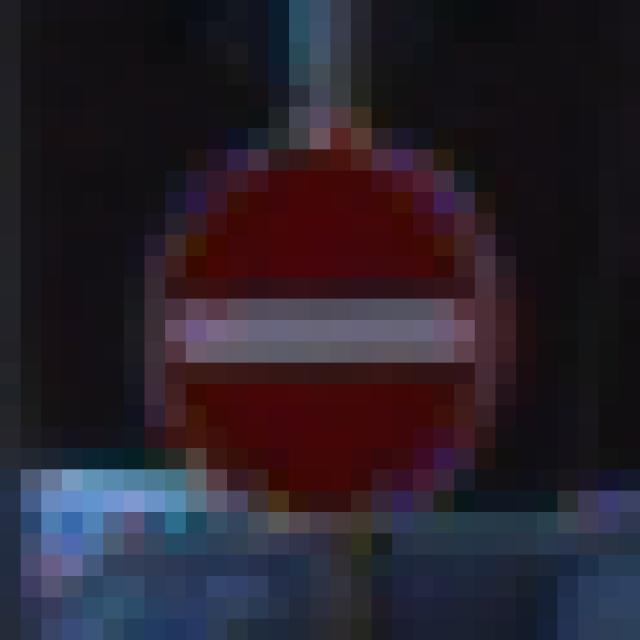No Entry: (125, 108, 538, 534)
